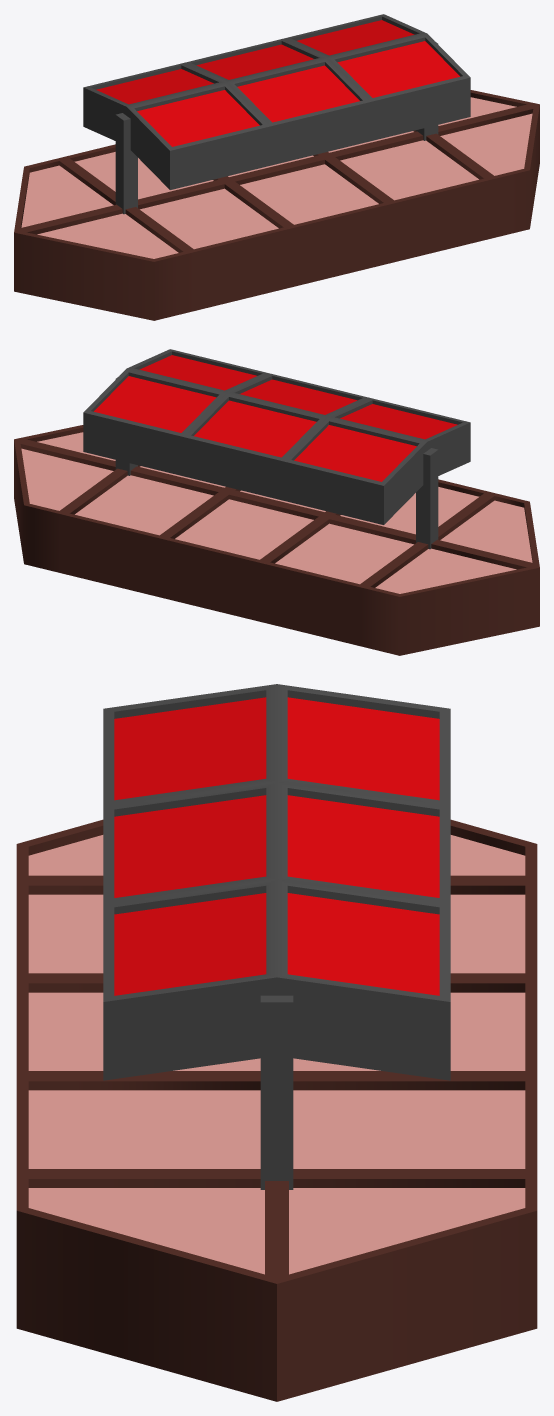
The model's file is standFrutasNivel2_low.fbx.
The picture shows the model from 3 angles, top to bottom: view 1: azimuth 30°, elevation 25°; view 2: azimuth 150°, elevation 25°; view 3: azimuth 270°, elevation 25°; orthographic projection. The views are drawn at different scales.
Parts seen in each view (by area): view 1: standNivel2_low, Frutas6Nivel2_low, Frutas4Nivel2_low, Frutas8Nivel2_low, Frutas12Nivel2_low, Frutas14Nivel2_low, Frutas16Nivel2_low, Frutas10Nivel2_low, Frutas1Nivel2_low, Frutas2Nivel2_low, Frutas15Nivel2_low, Frutas13Nivel2_low (+3 smaller); view 2: standNivel2_low, Frutas5Nivel2_low, Frutas3Nivel2_low, Frutas7Nivel2_low, Frutas11Nivel2_low, Frutas13Nivel2_low, Frutas15Nivel2_low, Frutas9Nivel2_low, Frutas2Nivel2_low, Frutas1Nivel2_low, Frutas16Nivel2_low, Frutas14Nivel2_low (+3 smaller); view 3: standNivel2_low, Frutas7Nivel2_low, Frutas8Nivel2_low, Frutas9Nivel2_low, Frutas10Nivel2_low, Frutas11Nivel2_low, Frutas12Nivel2_low, Frutas14Nivel2_low, Frutas13Nivel2_low, Frutas15Nivel2_low, Frutas16Nivel2_low, Frutas5Nivel2_low (+5 smaller).
Boxes of the visible parts, box(x1,y1,x2,y2) form: standNivel2_low: box(14, 14, 539, 320); Frutas6Nivel2_low: box(240, 164, 378, 224); Frutas4Nivel2_low: box(140, 188, 278, 249); Frutas8Nivel2_low: box(340, 140, 478, 200); Frutas12Nivel2_low: box(137, 90, 259, 146); Frutas14Nivel2_low: box(237, 65, 359, 122); Frutas16Nivel2_low: box(337, 41, 459, 97); Frutas10Nivel2_low: box(440, 113, 532, 175); Frutas1Nivel2_low: box(21, 165, 113, 227); Frutas2Nivel2_low: box(37, 213, 178, 258); Frutas15Nivel2_low: box(297, 20, 414, 55); Frutas13Nivel2_low: box(196, 44, 313, 79); standNivel2_low: box(14, 349, 539, 655); Frutas5Nivel2_low: box(175, 499, 313, 559); Frutas3Nivel2_low: box(275, 523, 413, 584); Frutas7Nivel2_low: box(75, 475, 213, 535); Frutas11Nivel2_low: box(294, 425, 416, 481); Frutas13Nivel2_low: box(194, 400, 316, 457); Frutas15Nivel2_low: box(94, 376, 216, 432); Frutas9Nivel2_low: box(21, 448, 113, 510); Frutas2Nivel2_low: box(440, 500, 532, 562); Frutas1Nivel2_low: box(375, 548, 516, 593); Frutas16Nivel2_low: box(139, 355, 256, 390); Frutas14Nivel2_low: box(240, 379, 357, 414); standNivel2_low: box(16, 684, 537, 1401); Frutas7Nivel2_low: box(293, 1090, 525, 1168); Frutas8Nivel2_low: box(28, 1090, 260, 1168); Frutas9Nivel2_low: box(289, 1188, 525, 1274); Frutas10Nivel2_low: box(28, 1188, 264, 1274); Frutas11Nivel2_low: box(287, 697, 439, 800); Frutas12Nivel2_low: box(114, 697, 266, 800); Frutas14Nivel2_low: box(114, 795, 266, 897); Frutas13Nivel2_low: box(287, 795, 439, 897); Frutas15Nivel2_low: box(287, 893, 439, 995); Frutas16Nivel2_low: box(114, 893, 266, 995); Frutas5Nivel2_low: box(293, 992, 525, 1070).
Size of the model in its own units: 700 by 200 by 300.
